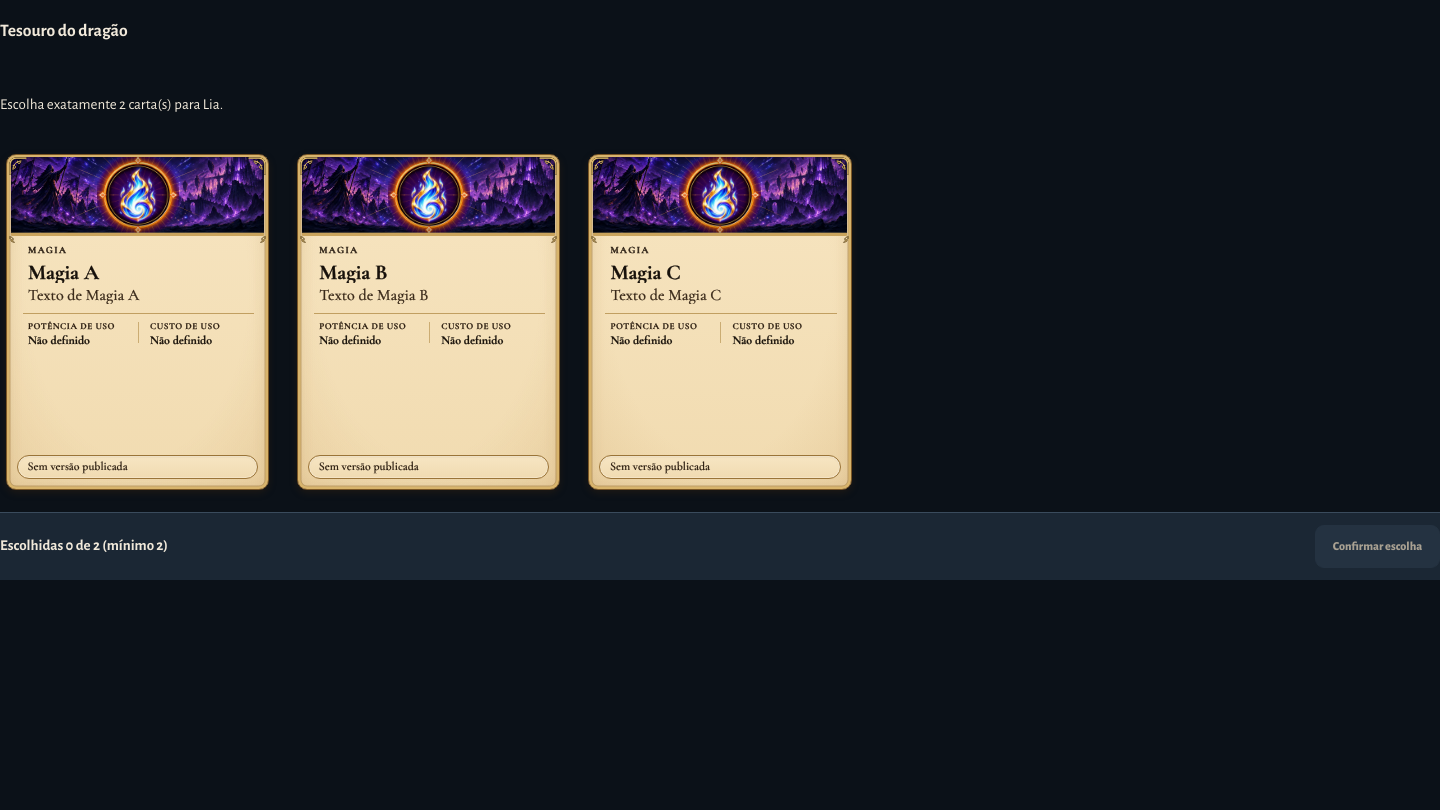
Test case: OfferChooser — 9.8 escolha acessível e animada › exibe a recusa do servidor sem perder a seleção
The width and height of the screenshot is (1440, 810).
Click the button with aria-label "Magia A" at [138, 322], box [0, 148, 275, 496]
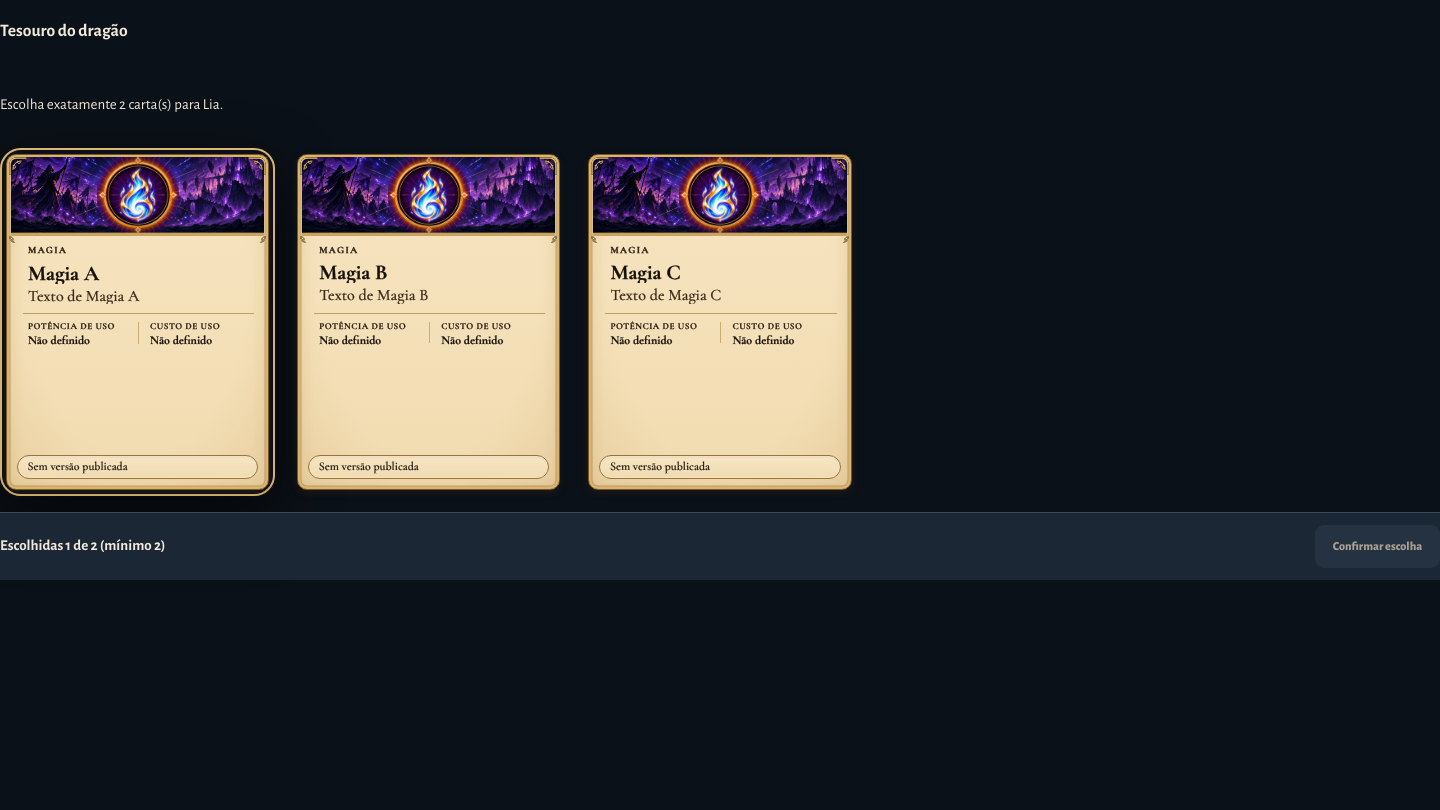
Click the button with aria-label "Magia B" at [429, 322], box [291, 148, 566, 496]
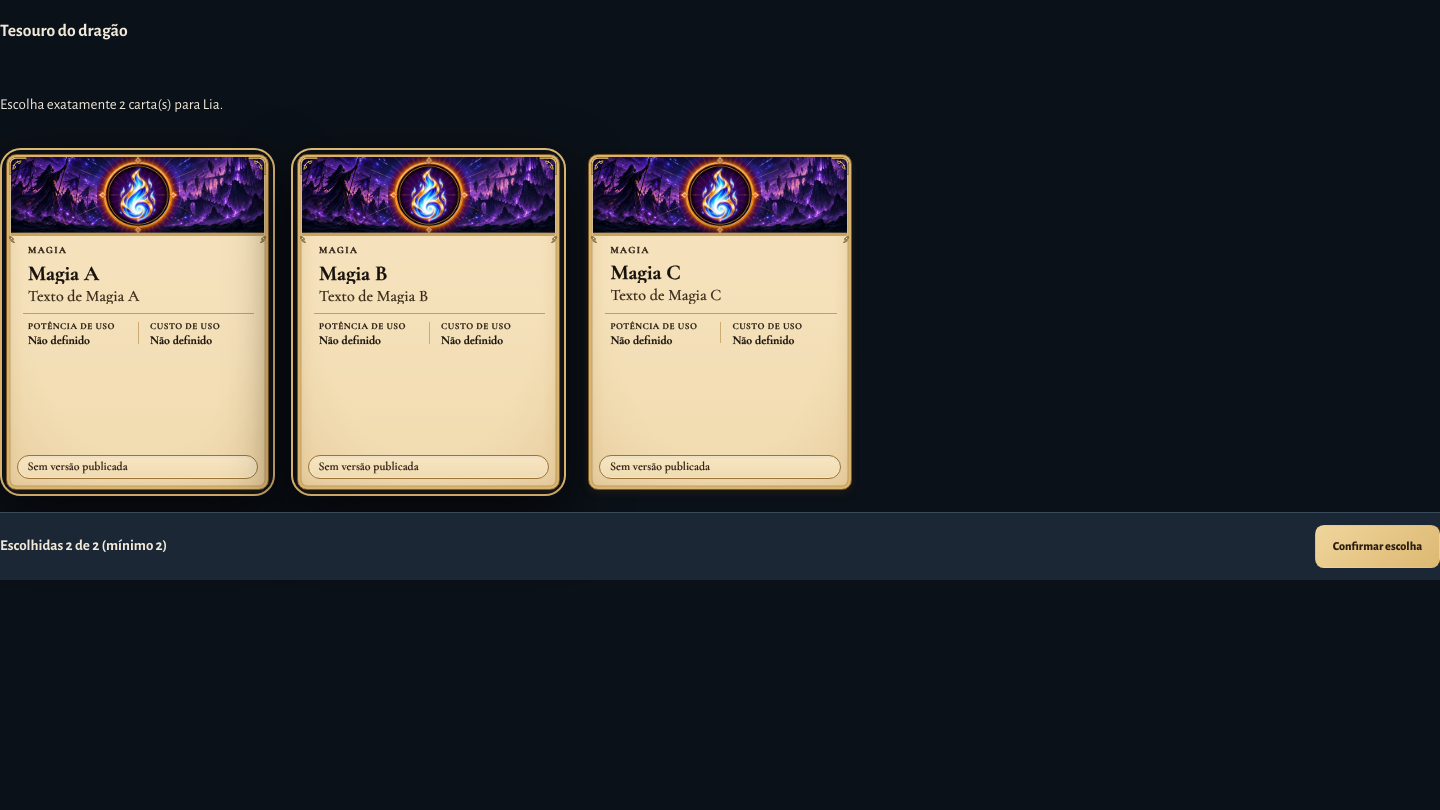
Click the button "Confirmar escolha" at [1378, 546], box [1315, 524, 1439, 568]
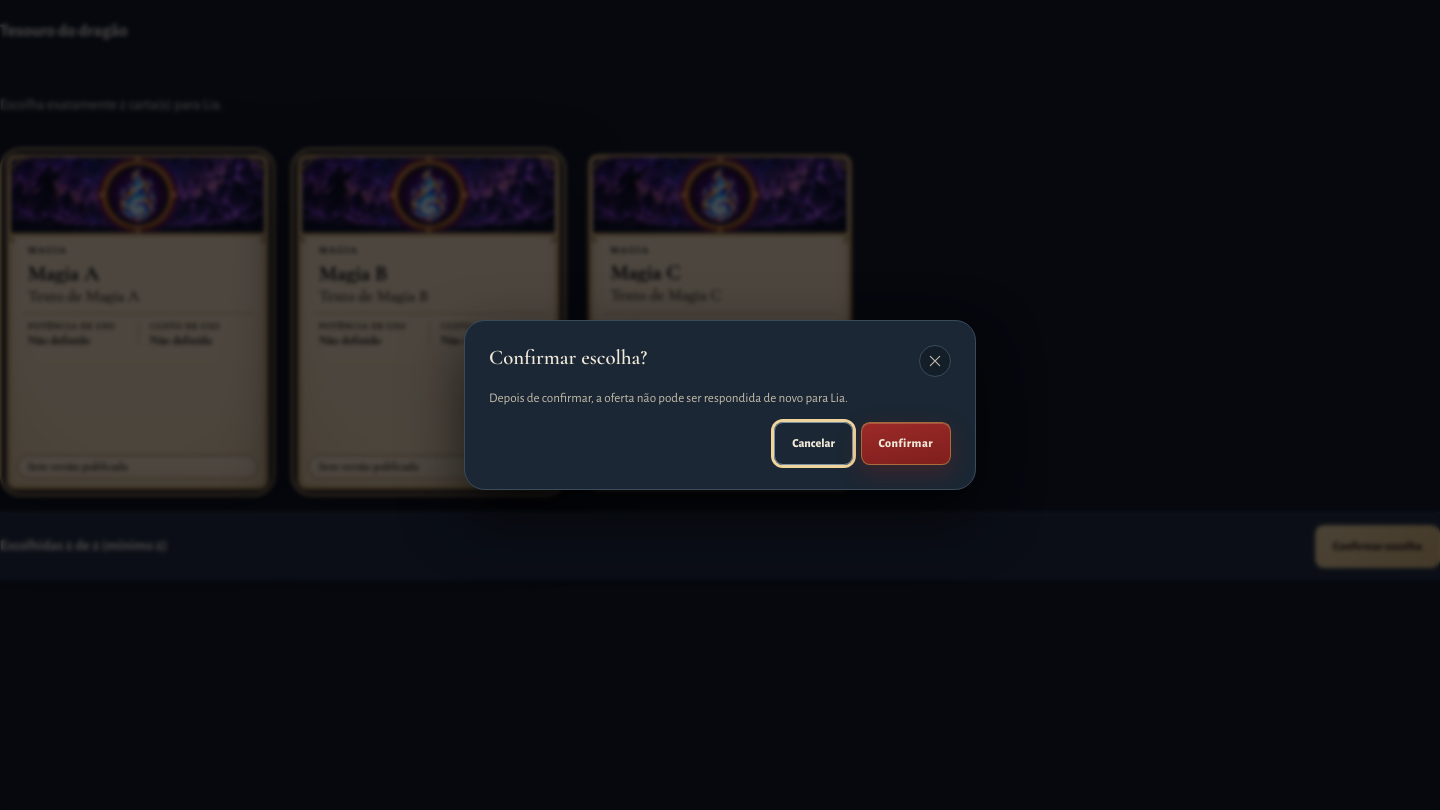
Click the button "Confirmar" at [906, 443], box [861, 422, 951, 465]
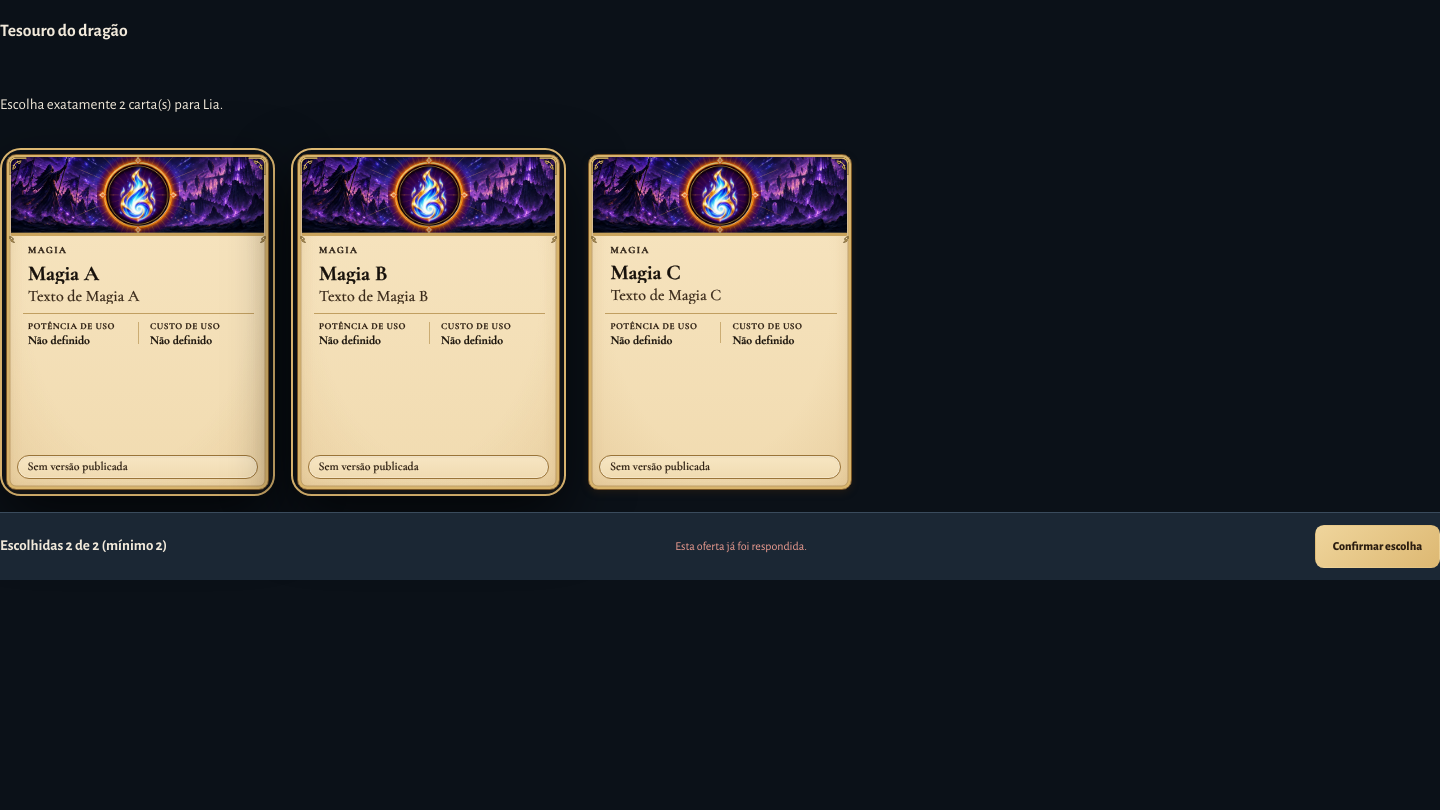
Check: the text "Esta oferta já foi respondida." is shown, box [675, 537, 807, 555]
